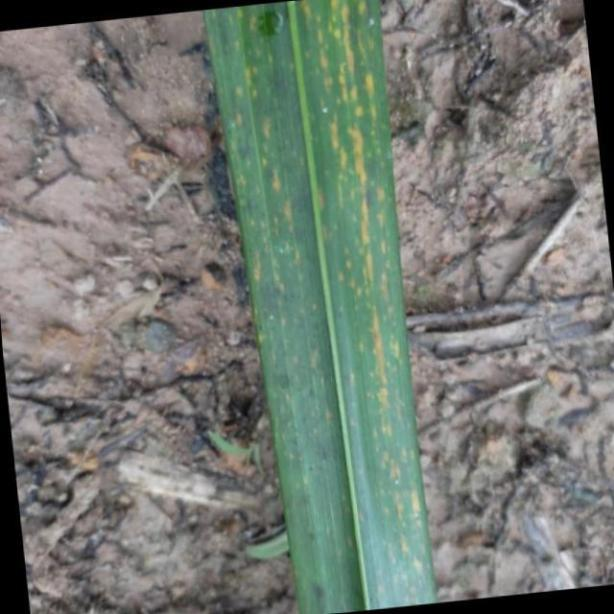Kalium: (203, 5, 438, 614)
